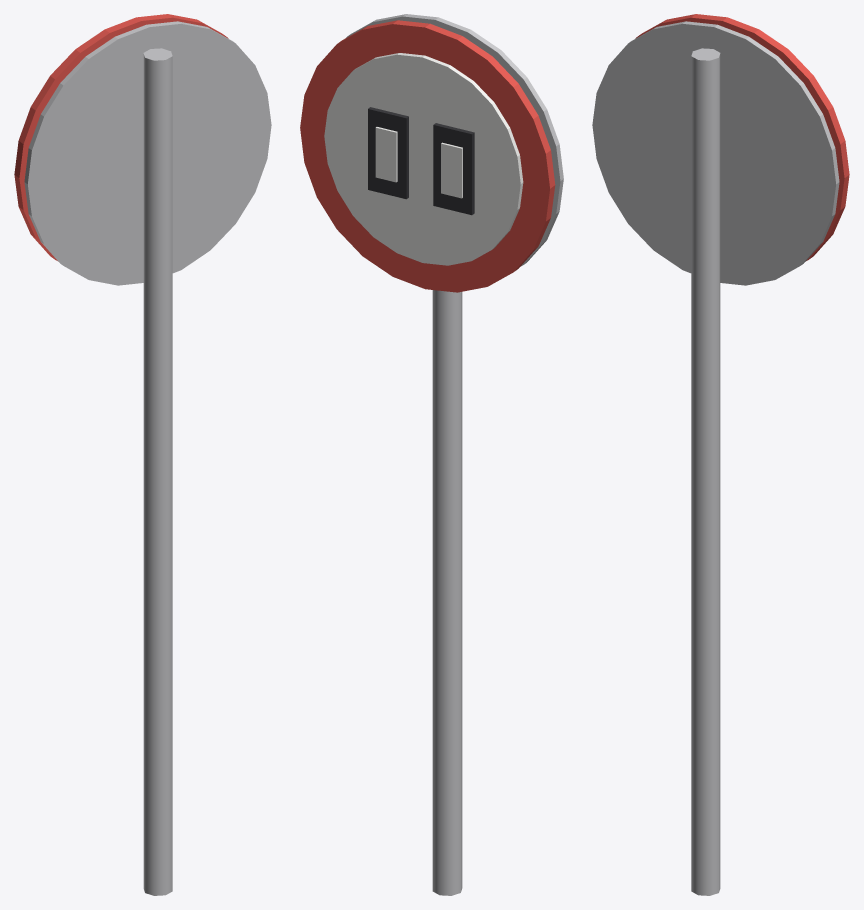
File: sign_speed.glb
The picture shows the model from 3 angles, left to right: view 1: azimuth 30°, elevation 25°; view 2: azimuth 150°, elevation 25°; view 3: azimuth 330°, elevation 25°; orthographic projection. The views are drawn at different scales.
Visible parts, largest first — view 1: sign_speed; view 2: sign_speed; view 3: sign_speed.
Boxes of the visible parts, x1=… form: sign_speed: x1=14, y1=14, x2=271, y2=895; sign_speed: x1=300, y1=14, x2=563, y2=895; sign_speed: x1=592, y1=14, x2=849, y2=895.
Bounding box in the file's own units: 0.84 × 2.82 × 0.2125.
